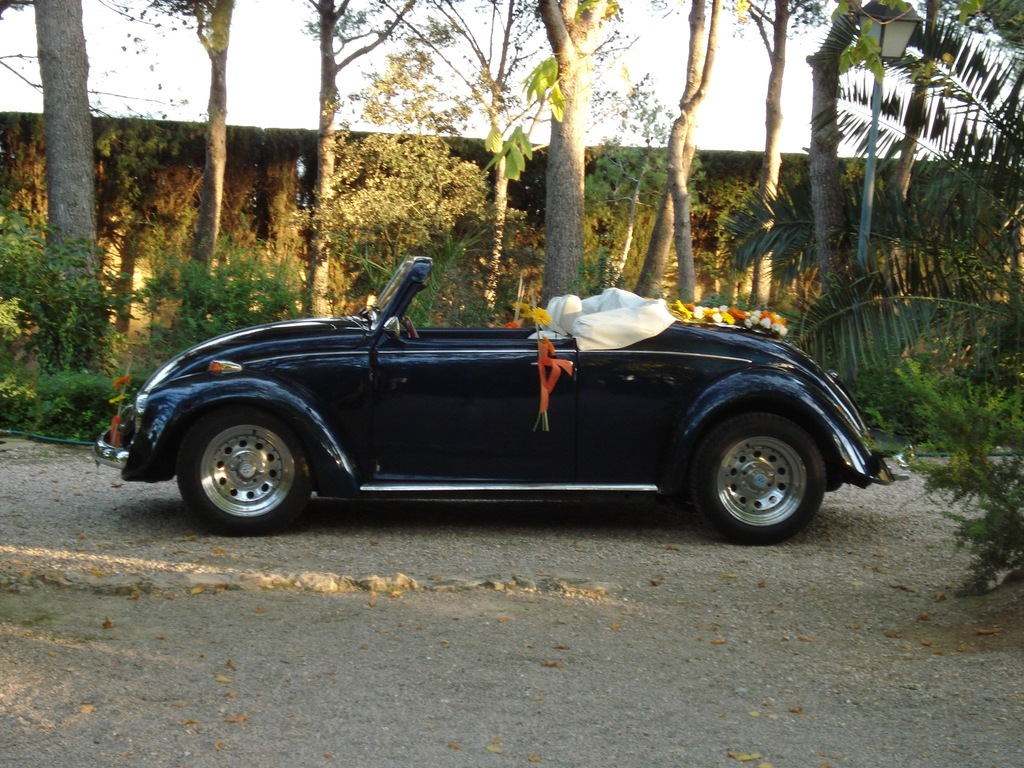Tree: (0, 0, 1024, 452)
